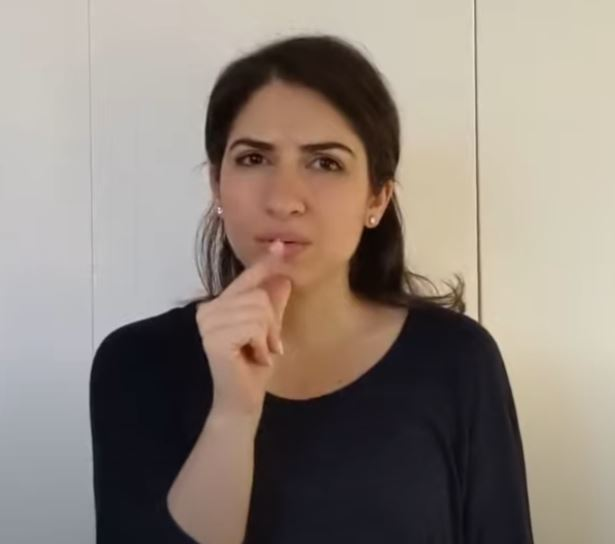who: (178, 227, 345, 394)
